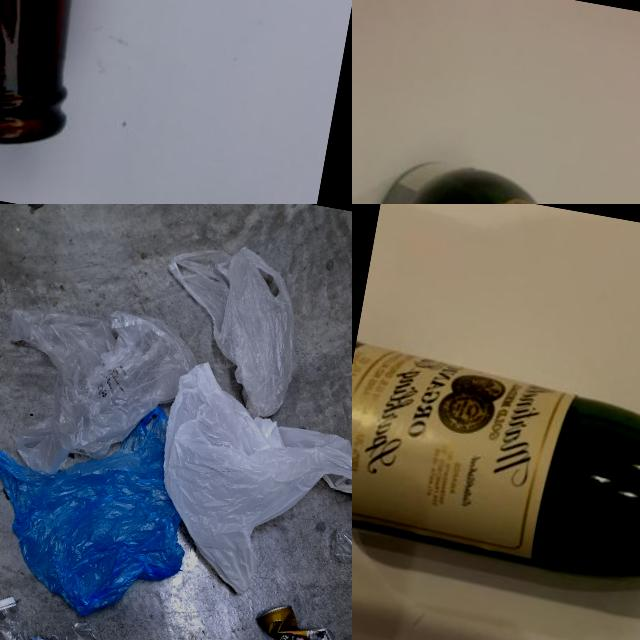garrafa de vidro: (352, 340, 640, 639), (0, 0, 131, 154), (357, 153, 640, 204)
garrafa plástica: (0, 603, 103, 640), (333, 493, 352, 573)
lata: (251, 599, 340, 640)
sacola plástica: (139, 356, 352, 614), (0, 377, 209, 632), (0, 291, 200, 493), (144, 232, 312, 420)
tampa plástica: (0, 594, 16, 615)
